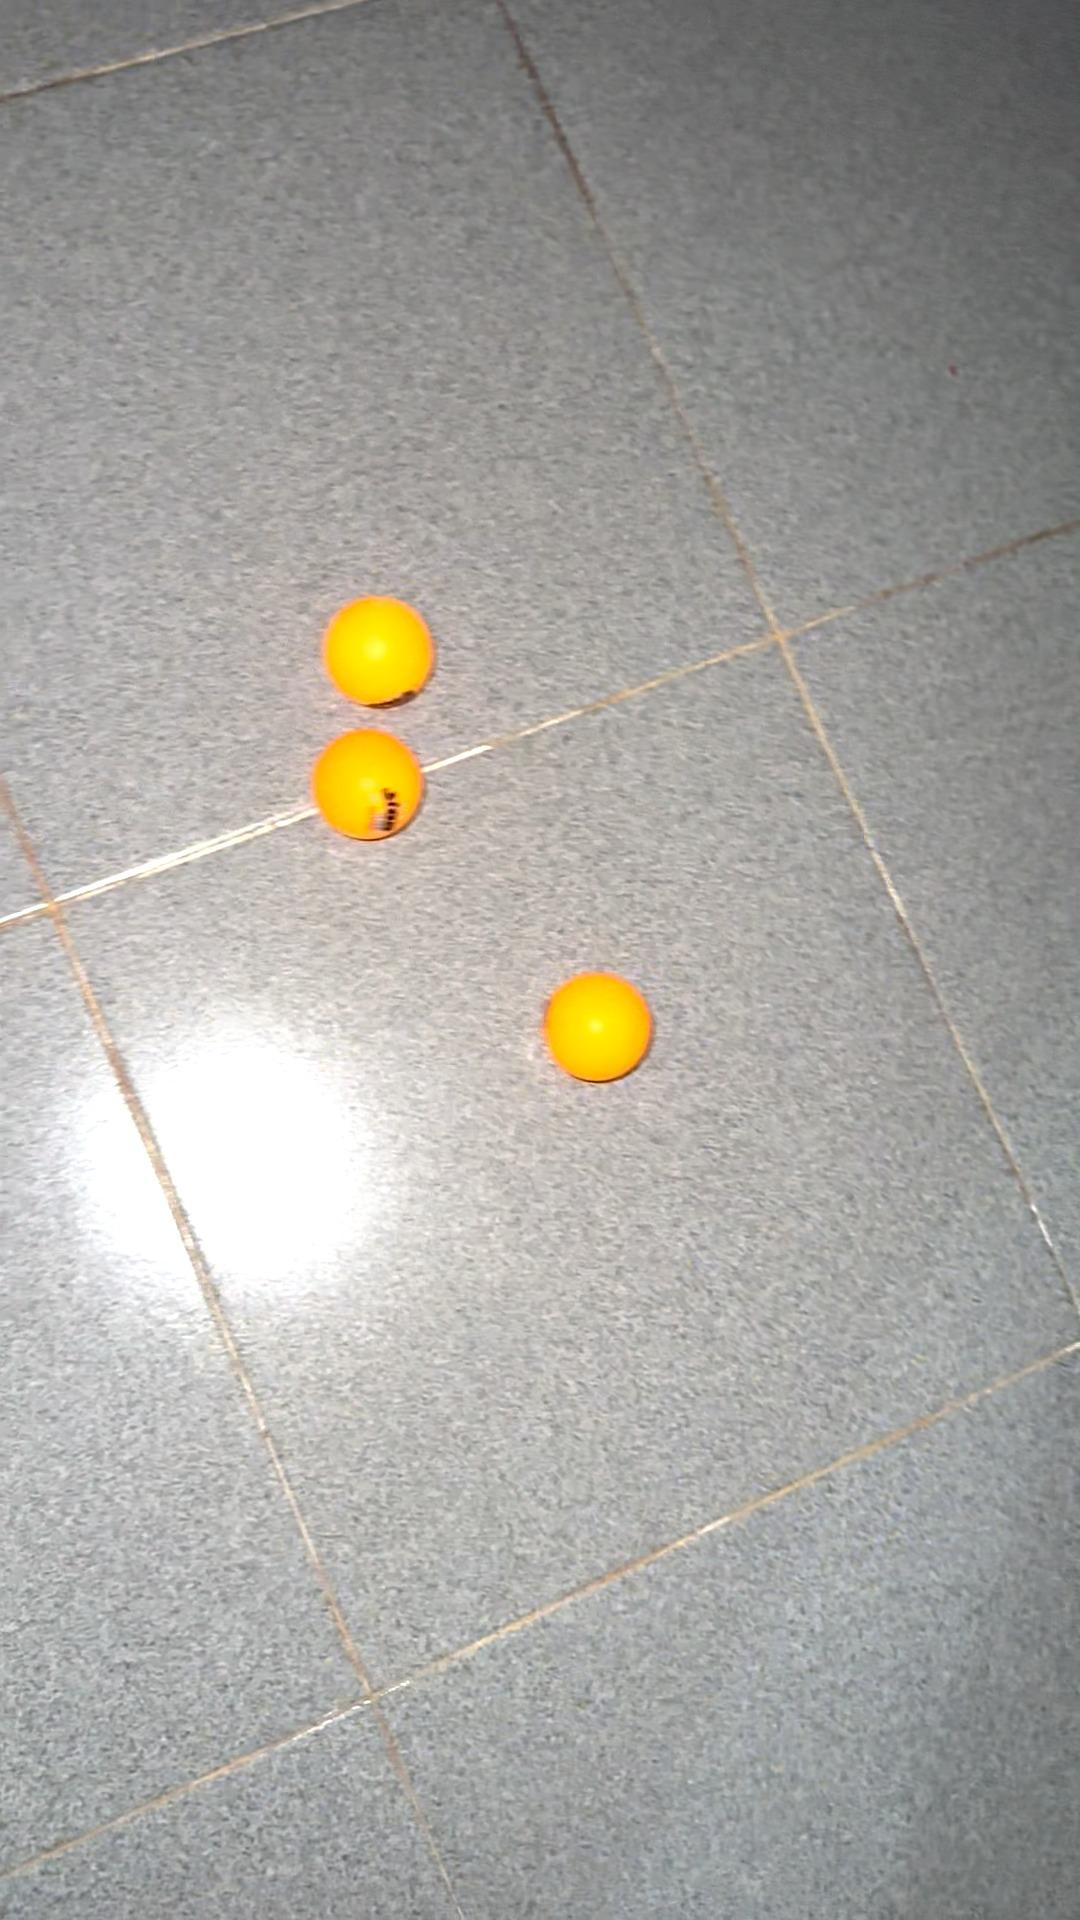oball: (310, 724, 429, 848), (322, 591, 439, 713), (534, 967, 653, 1081)
